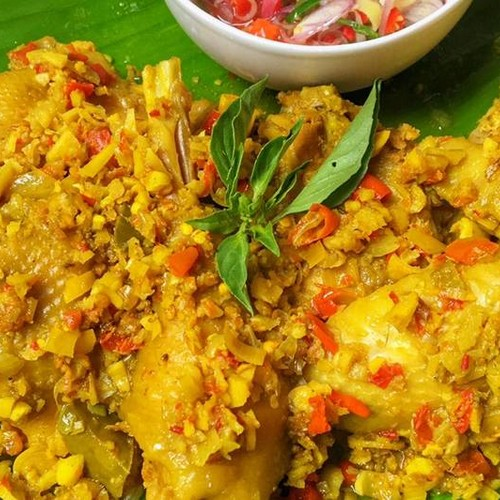ayam betutu: (34, 270, 499, 498)
